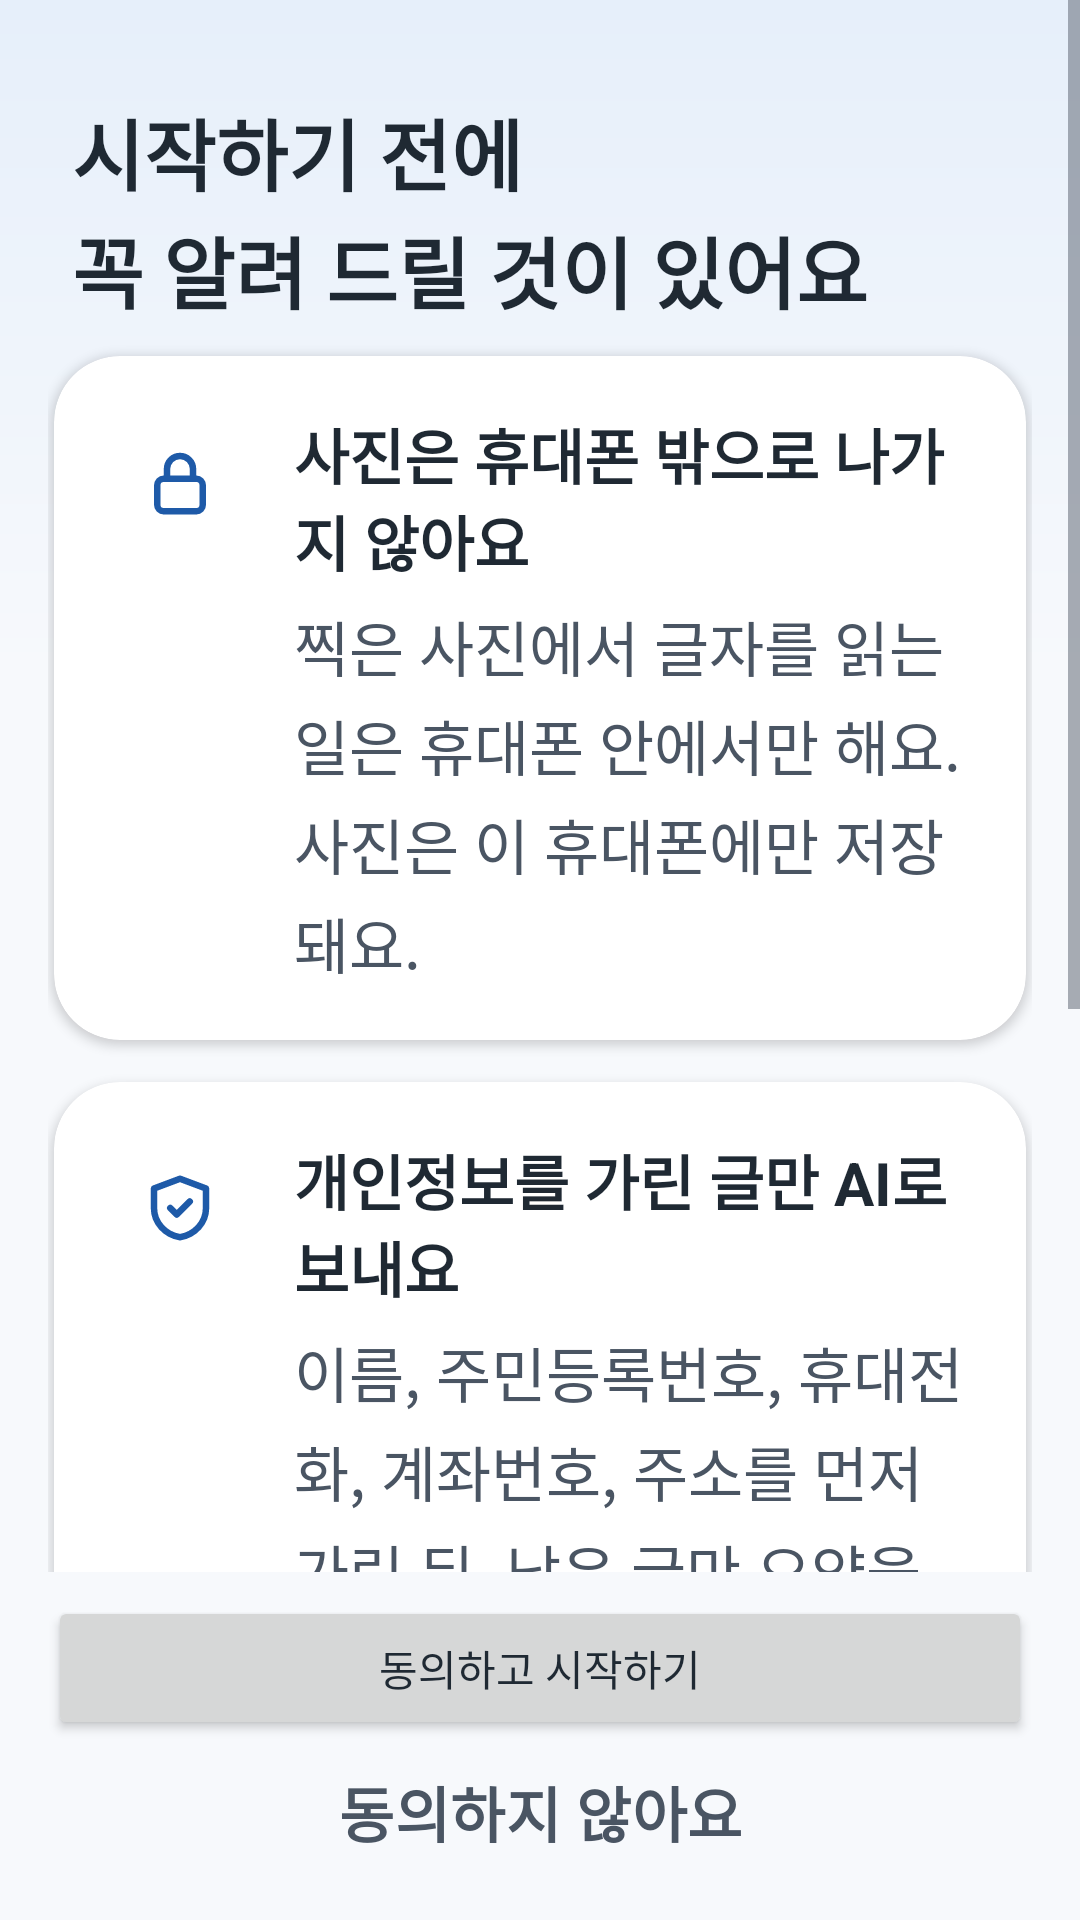

Where to tap for icons on this 1080×1920 app screen, as (x=x, y=y):
lock: (x=180, y=483)
shield: (x=180, y=1208)
